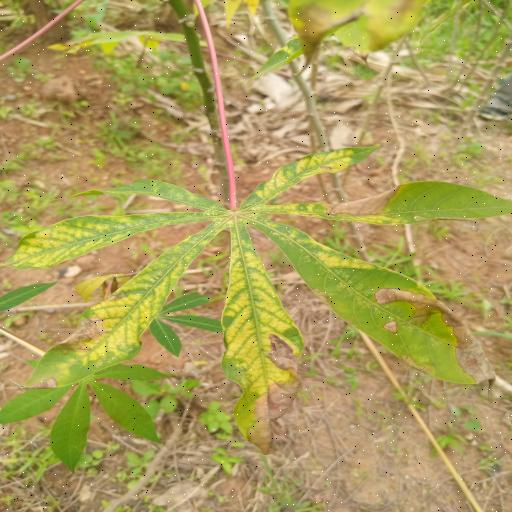Cassava_Brown_Leaf_Spot: (11, 142, 512, 447)
